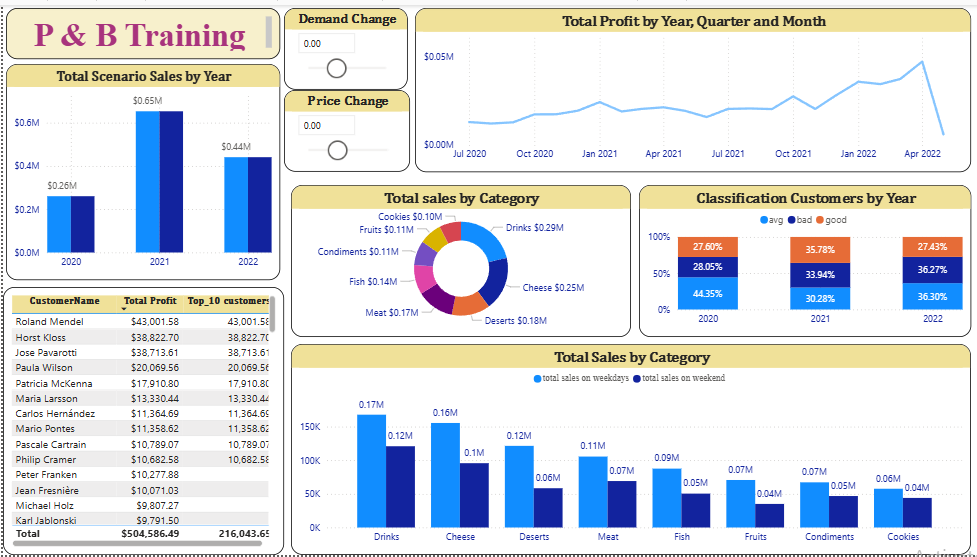

The page's visual inventory and layout, read from the dashboard file:
{"tool":"powerbi","page":{"name":"Page 8","canvas":[1280,720],"ordinal":7},"visuals":[{"type":"textbox","box":[3.9,3.9,358.7,66.8],"z":0},{"type":"tableEx","fields":{"Values":["Order_table.CustomerName","Measure_table.Total Profit","Measure_table.Top_10 customers"]},"box":[0,369.2,367.9,350.8],"z":1000},{"type":"clusteredColumnChart","title":"Total Scenario Sales by Year","fields":{"Category":["Date_table.Date.Variation.Date Hierarchy.Year"],"Y":["Measure_table.Total sales","Measure_table.TOtal Senerio Sales"]},"box":[3.9,77.2,358.7,282.8],"z":2000},{"type":"slicer","title":"Price Change","fields":{"Values":["Price_change.Price_change"]},"box":[367.9,111.3,164.9,107.3],"z":3000},{"type":"slicer","title":"Demand Change","fields":{"Values":["Demand_change.Demand_change"]},"box":[367.9,3.9,162.3,107.3],"z":4000},{"type":"clusteredColumnChart","title":"Total Sales by Category","fields":{"Category":["Order_table.Category"],"Y":["Measure_table.total sales on weekdays","Measure_table.total sales on weekend"]},"box":[377,443.8,890.2,276.2],"z":5000},{"type":"donutChart","fields":{"Y":["Measure_table.Total sales"],"Category":["Order_table.Category"]},"box":[377,235.6,445.1,199],"z":6000},{"type":"hundredPercentStackedColumnChart","title":"Classification Customers by Year","fields":{"Category":["Date_table.Date.Variation.Date Hierarchy.Year"],"Y":["Measure_table.Classification_Customers"],"Series":["Customer_classification.classify customer"]},"box":[832.6,235.6,434.6,199],"z":7000},{"type":"lineChart","fields":{"Y":["Measure_table.Total Profit"],"Category":["Date_table.Date.Variation.Date Hierarchy.Year","Date_table.Date.Variation.Date Hierarchy.Quarter","Date_table.Date.Variation.Date Hierarchy.Month"]},"box":[539.3,3.9,727.9,214.7],"z":8000}]}

Visuals, with their boxes in screenshot pixels (x1, y1, x2, y2), scaled from the page's 1280x720 canvas onto the 977x557 screenshot:
textbox: 3,3,277,55
tableEx - Order_table.CustomerName x Measure_table.Total Profit: 0,286,281,556
"Total Scenario Sales by Year" clusteredColumnChart: 3,60,277,278
"Price Change" slicer: 281,86,407,169
"Demand Change" slicer: 281,3,405,86
"Total Sales by Category" clusteredColumnChart: 288,343,967,556
donutChart - Measure_table.Total sales x Order_table.Category: 288,182,627,336
"Classification Customers by Year" hundredPercentStackedColumnChart: 636,182,967,336
lineChart - Measure_table.Total Profit x Date_table.Date.Variation.Date Hierarchy.Year: 412,3,967,169
